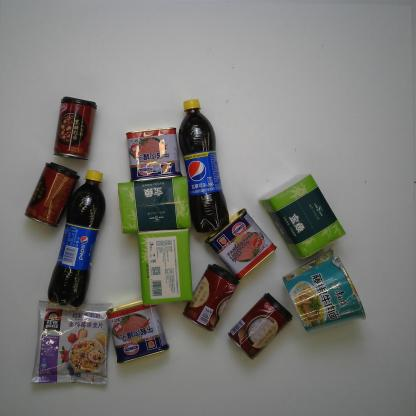Canned Food: (204, 207, 278, 280), (227, 291, 294, 362), (106, 297, 171, 364), (182, 263, 240, 332), (23, 160, 80, 228), (124, 127, 183, 182), (53, 96, 98, 162)
Drink: (46, 168, 106, 309), (178, 97, 231, 234)
Instant Drink: (30, 300, 114, 386)
Instant Noodles: (282, 247, 367, 335)
Tissue: (257, 172, 347, 260), (135, 228, 196, 308), (118, 176, 194, 235)
